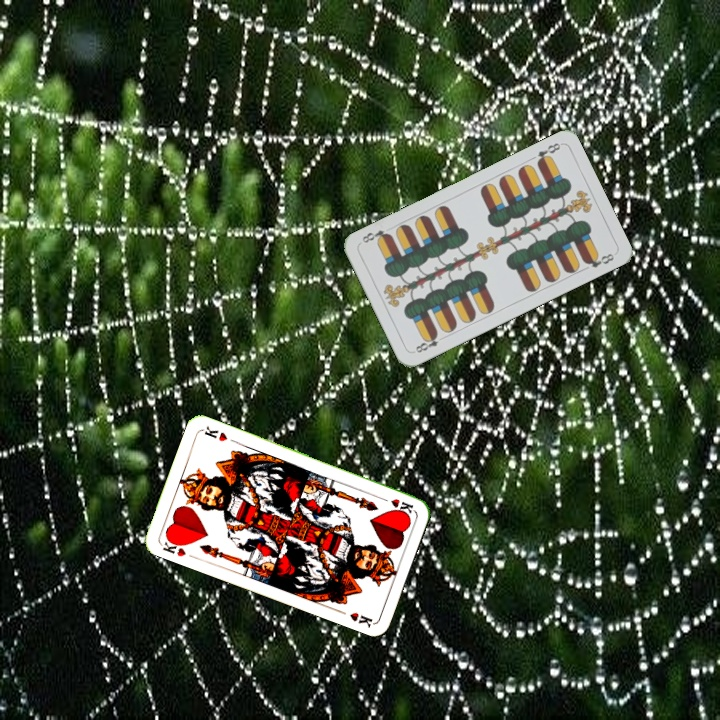E8: (533, 138, 563, 167), (410, 329, 441, 356)
HK: (376, 493, 416, 516), (159, 534, 189, 559)
